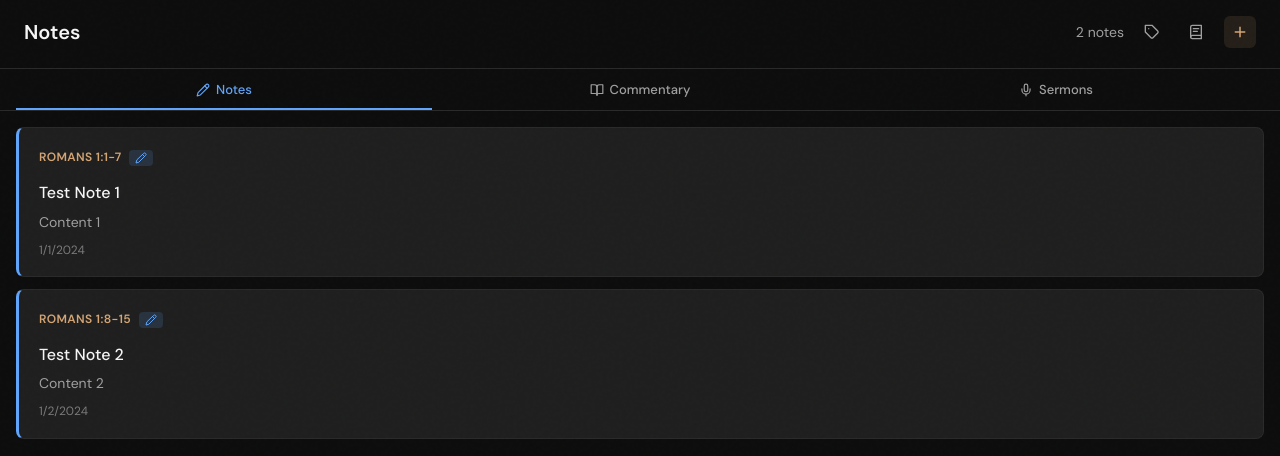
Test: NotesPanel › tab switching › updates count when switching tabs
The image size is (1280, 456).
Check: the text "2 notes" is shown, box [1076,21,1124,43]
// Switch to commentary tab
Click the button "Commentary".
click(640, 90)  # box [432,69,848,110]
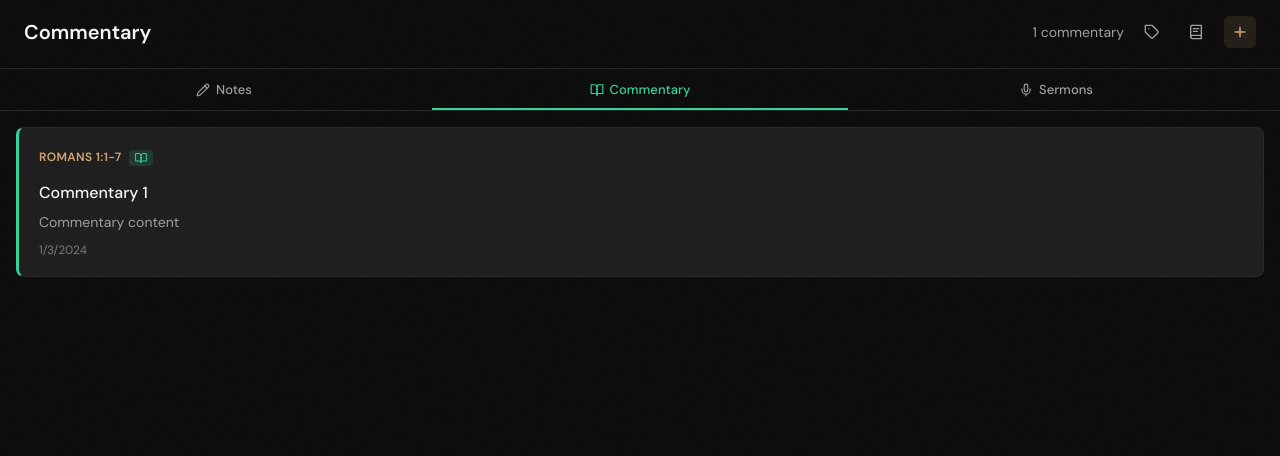
Check: the text "1 commentary" is shown, box [1033,21,1124,43]
